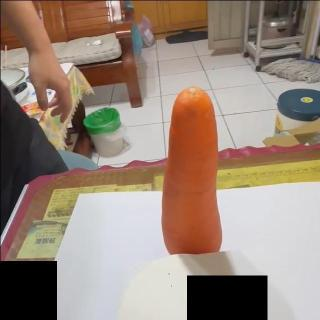carrot: (160, 86, 222, 254)
